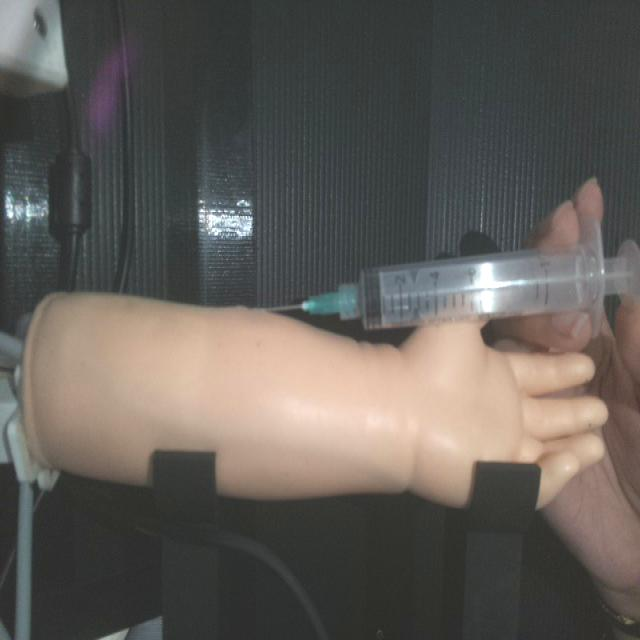Below 15 degrees: (262, 219, 637, 333)
